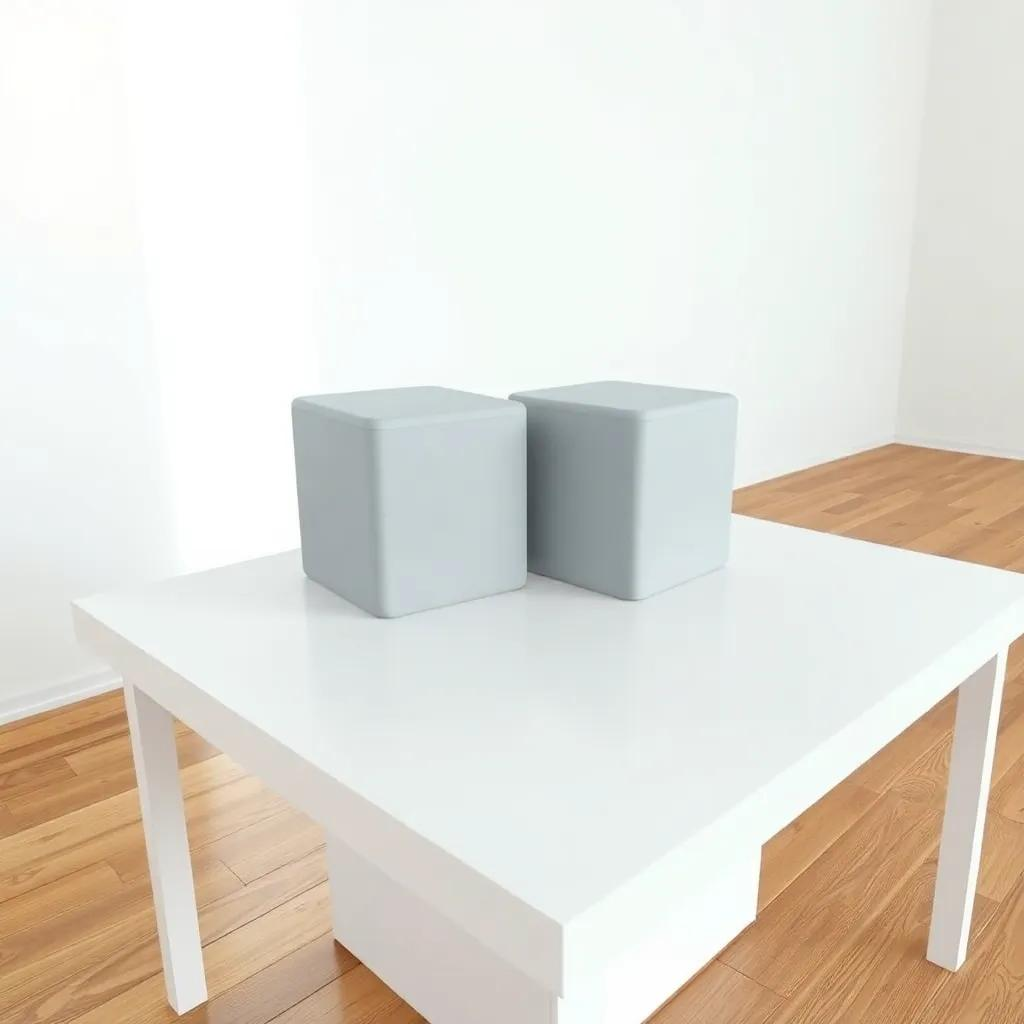cube: (289, 383, 528, 619), (508, 378, 738, 601)
